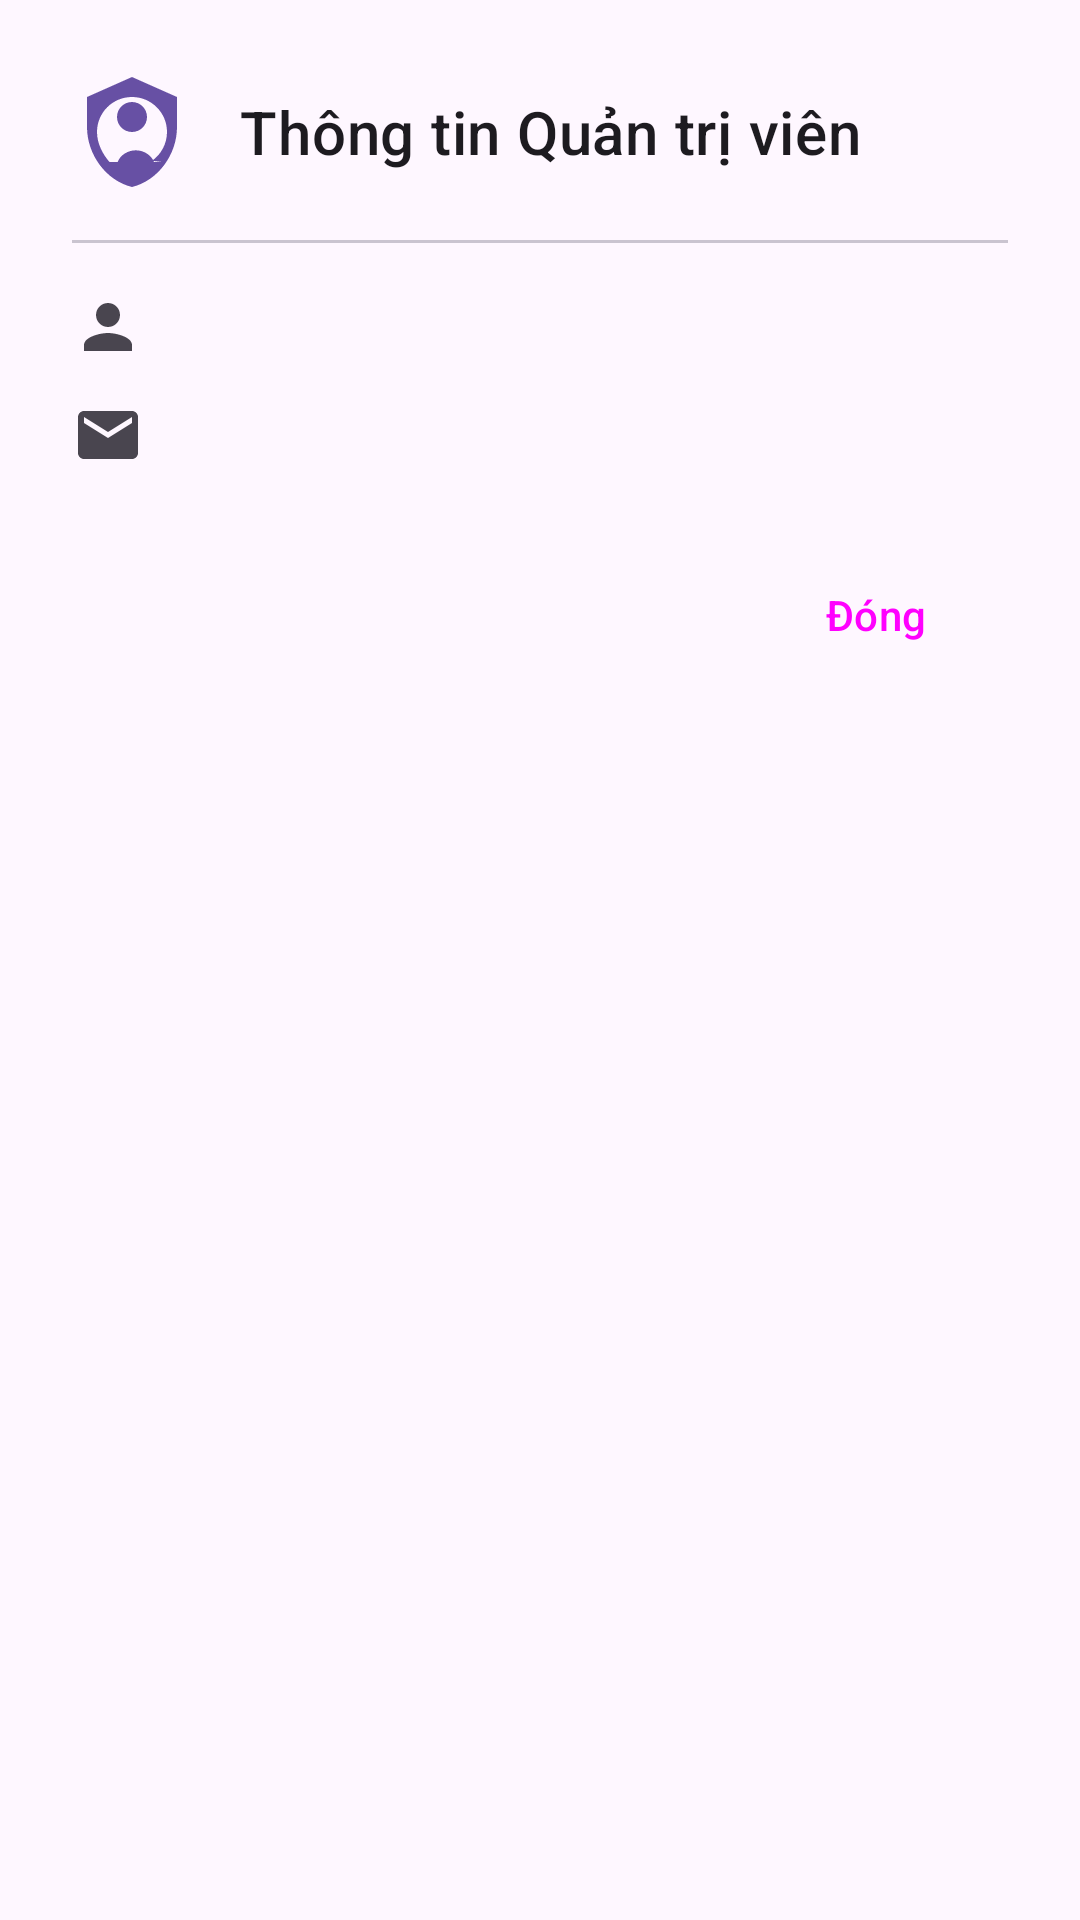

Where to tap for icons on this 1080x1920 app screen, as (x,y):
profile email: (108,435)
profile name: (108,327)
